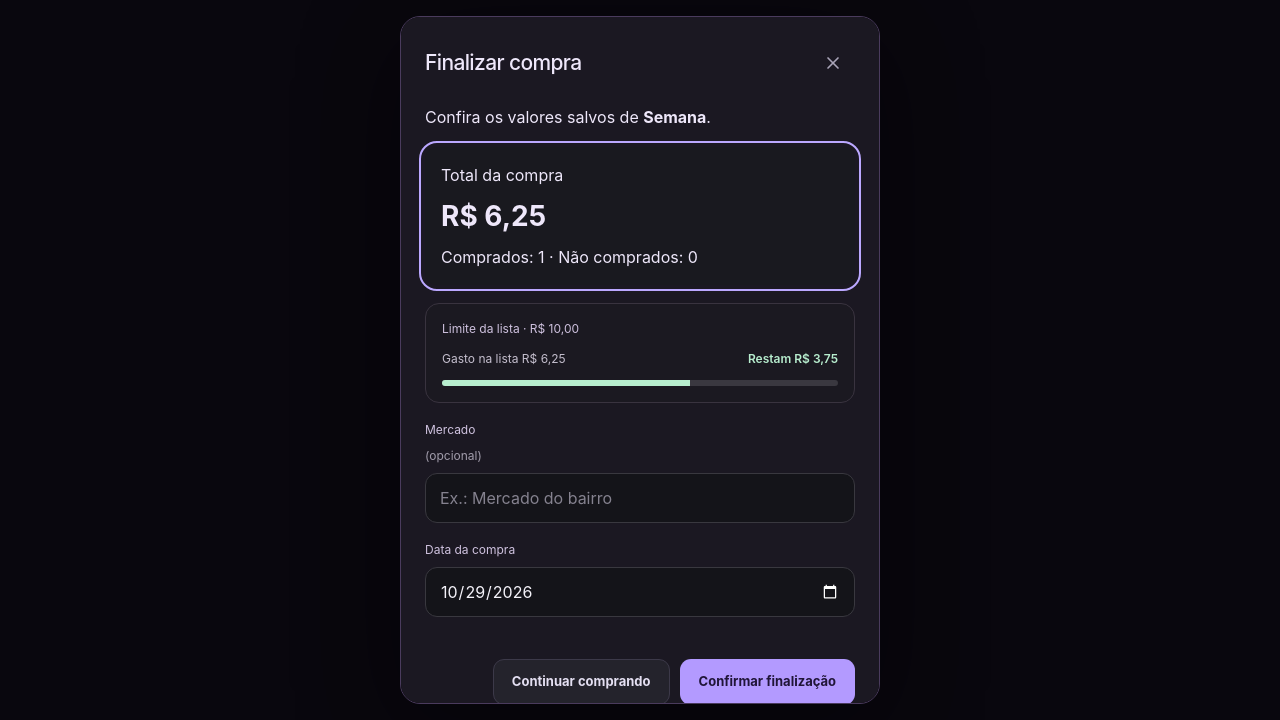
purchase review › preserves metadata on a failed write and prevents duplicate confirmation
The width and height of the screenshot is (1280, 720).
Type "Meu mercado" into the field labelled "Mercado (opcional)" at (640, 498), box [425,473,855,523]
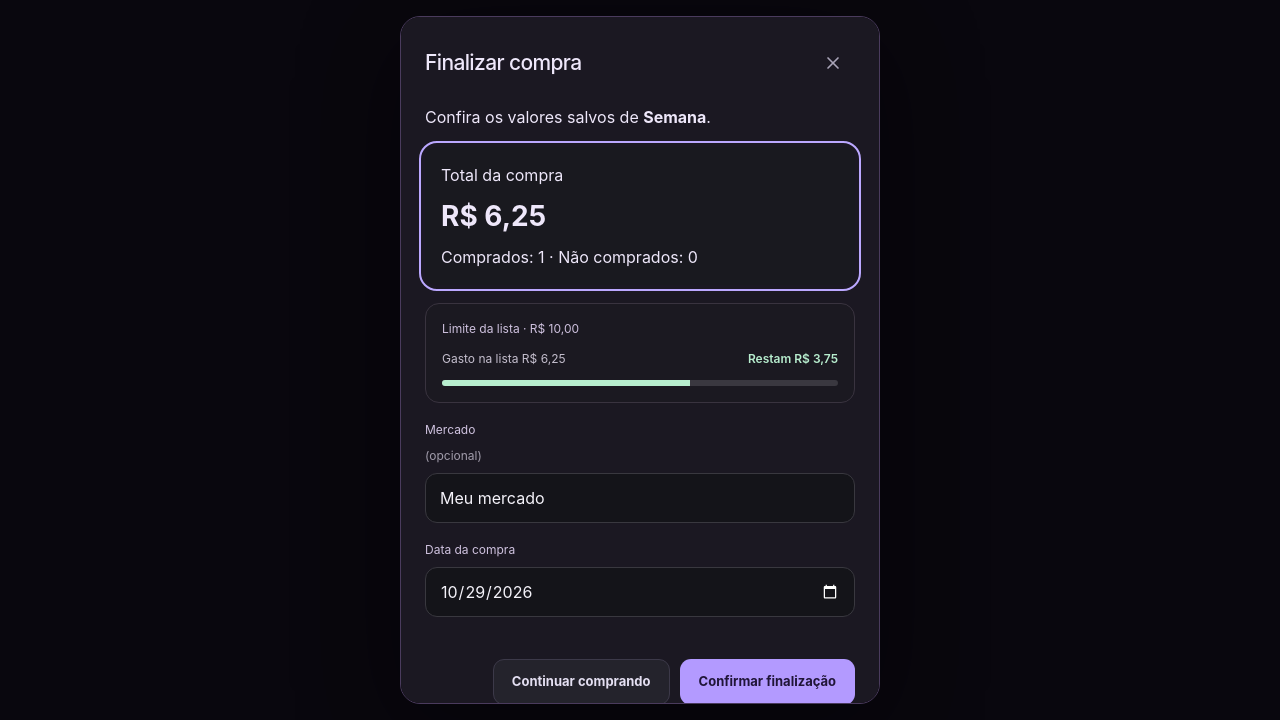
Click the button "Confirmar finalização" at (767, 682), box [680,659,855,704]
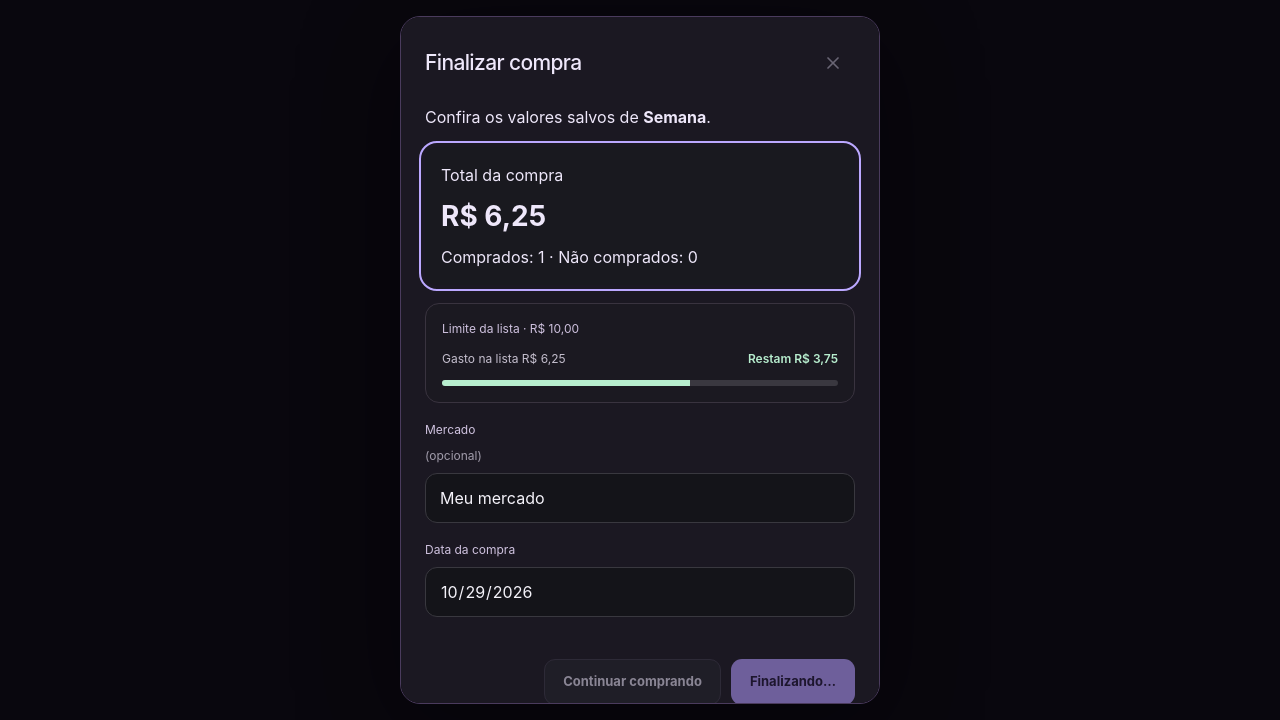
Click the button named "Confirmar finalização" at (793, 682), box [731,659,855,704]
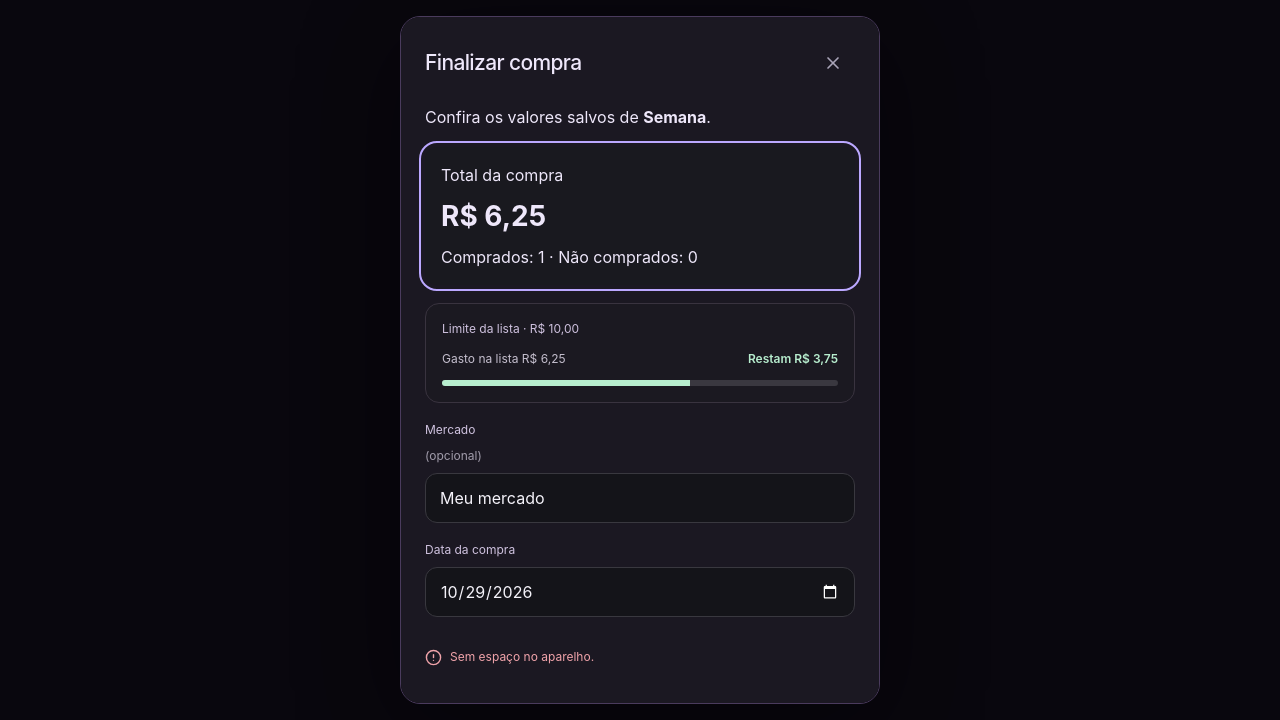
Expected: the message shows "Sem espaço", [450,649,594,664]
